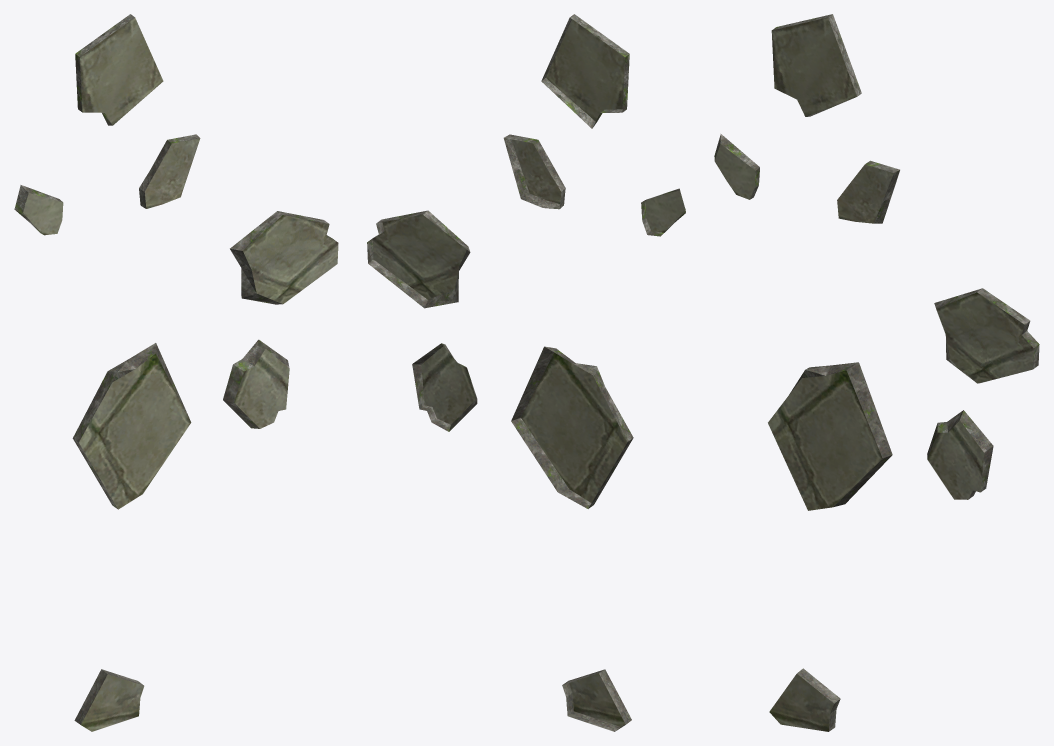
The model's file is jingling_02_building_06c.obj.
3 views of the same model, side by side, from view 1: azimuth 30°, elevation 25°; view 2: azimuth 150°, elevation 25°; view 3: azimuth 330°, elevation 25° (orthographic). The views are drawn at different scales.
Visible parts, largest first — view 1: jingling_02_building_06c; view 2: jingling_02_building_06c; view 3: jingling_02_building_06c.
Part boxes in pixels (x1,y1,x2,y2): jingling_02_building_06c: (14, 14, 338, 731); jingling_02_building_06c: (367, 14, 685, 731); jingling_02_building_06c: (714, 14, 1039, 731).
Bounding box in the file's own units: 697 × 1469 × 26.06.
Materials: 2 (2 with a texture image).
